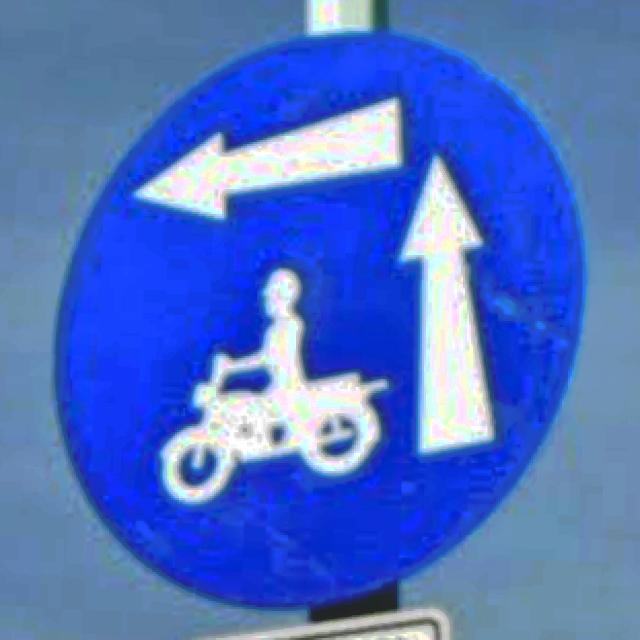twostageturn: (56, 31, 584, 611)
